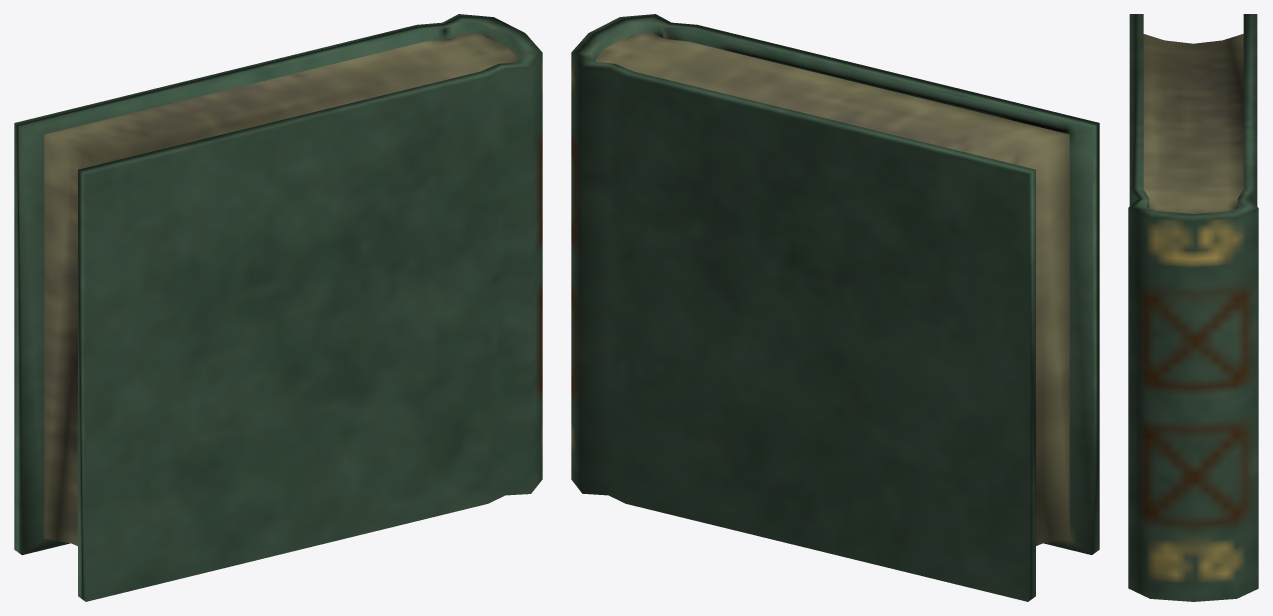
Rendered from BookSingle.fbx.
3 renders of one model, left to right at view 1: azimuth 30°, elevation 25°; view 2: azimuth 150°, elevation 25°; view 3: azimuth 270°, elevation 25°, orthographic. The views are drawn at different scales.
Visible parts, largest first — view 1: BookSingle; view 2: BookSingle; view 3: BookSingle.
Part boxes in pixels (<box>): BookSingle: <box>14,14,542,601</box>; BookSingle: <box>571,14,1099,601</box>; BookSingle: <box>1128,14,1258,601</box>.
Size of the model in its own units: 26.03 by 22.31 by 6.91.
